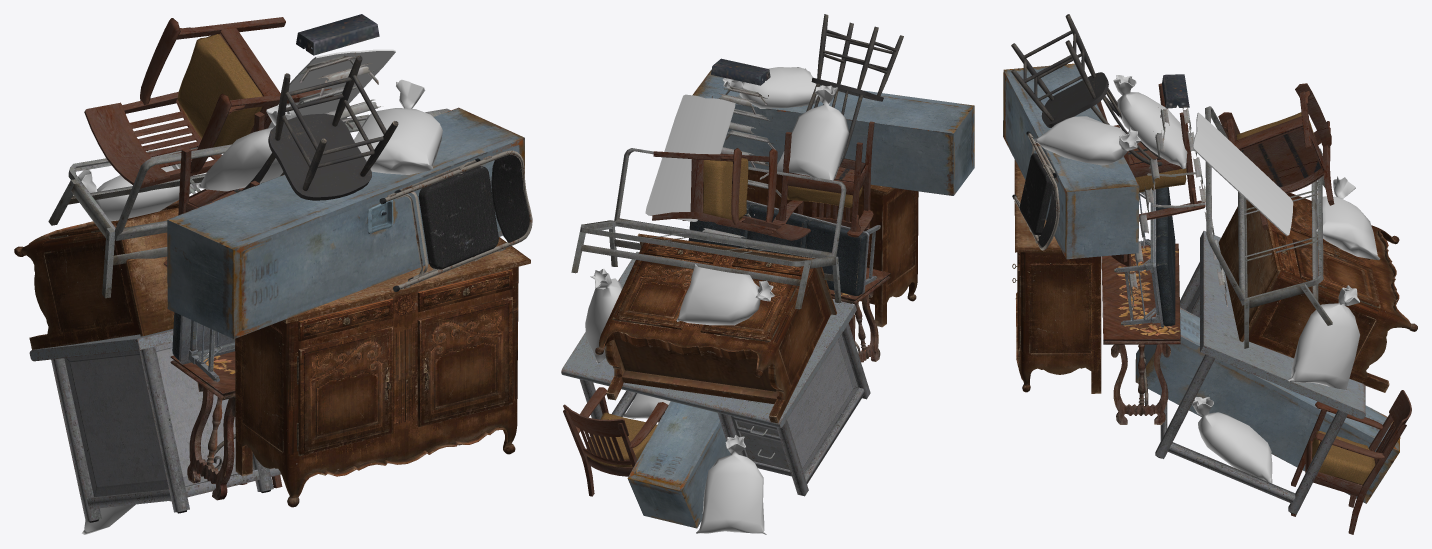
The model's file is Barricade6.fbx.
3 renders of one model, left to right at view 1: azimuth 30°, elevation 25°; view 2: azimuth 150°, elevation 25°; view 3: azimuth 270°, elevation 25°, orthographic. The views are drawn at different scales.
Visible parts, largest first — view 1: LOD_1_Group_0_Sub_2__sm30_109_Lowchest01A_A_Mat, LOD_1_Group_0_Sub_1__sm30_051_Locker01A_A_Mat1, LOD_1_Group_0_Sub_6__sm30_093_STARSPClDesk01A_A_Mat1, LOD_1_Group_0_Sub_5__sm30_118_WoodChair03A_A_Mat, LOD_1_Group_0_Sub_10__sm30_153_FoldingChair01A_A_Mat, LOD_1_Group_0_Sub_12__sm26_046_Sandbag04A_A_Mat__Env_default, LOD_1_Group_0_Sub_3__sm30_115_cafeChair01A_A_Mat, LOD_1_Group_0_Sub_7__sm30_002_OfficeSofa01A_A_Mat1, LOD_1_Group_0_Sub_11__sm30_205_LibraryDesk01A_A_Mat, LOD_1_Group_0_Sub_8__sm30_163_Foldingladder03A_A_Mat, LOD_1_Group_0_Sub_4__sm26_022_WoodBoard01A_A_Mat, LOD_1_Group_0_Sub_9__sm30_126_BenchA01A_A_Mat1; view 2: LOD_1_Group_0_Sub_2__sm30_109_Lowchest01A_A_Mat, LOD_1_Group_0_Sub_1__sm30_051_Locker01A_A_Mat1, LOD_1_Group_0_Sub_12__sm26_046_Sandbag04A_A_Mat__Env_default, LOD_1_Group_0_Sub_5__sm30_118_WoodChair03A_A_Mat, LOD_1_Group_0_Sub_6__sm30_093_STARSPClDesk01A_A_Mat1, LOD_1_Group_0_Sub_7__sm30_002_OfficeSofa01A_A_Mat1, LOD_1_Group_0_Sub_4__sm26_022_WoodBoard01A_A_Mat, LOD_1_Group_0_Sub_9__sm30_126_BenchA01A_A_Mat1, LOD_1_Group_0_Sub_3__sm30_115_cafeChair01A_A_Mat, LOD_1_Group_0_Sub_8__sm30_163_Foldingladder03A_A_Mat, LOD_1_Group_0_Sub_11__sm30_205_LibraryDesk01A_A_Mat; view 3: LOD_1_Group_0_Sub_2__sm30_109_Lowchest01A_A_Mat, LOD_1_Group_0_Sub_1__sm30_051_Locker01A_A_Mat1, LOD_1_Group_0_Sub_12__sm26_046_Sandbag04A_A_Mat__Env_default, LOD_1_Group_0_Sub_5__sm30_118_WoodChair03A_A_Mat, LOD_1_Group_0_Sub_6__sm30_093_STARSPClDesk01A_A_Mat1, LOD_1_Group_0_Sub_11__sm30_205_LibraryDesk01A_A_Mat, LOD_1_Group_0_Sub_7__sm30_002_OfficeSofa01A_A_Mat1, LOD_1_Group_0_Sub_3__sm30_115_cafeChair01A_A_Mat, LOD_1_Group_0_Sub_4__sm26_022_WoodBoard01A_A_Mat, LOD_1_Group_0_Sub_9__sm30_126_BenchA01A_A_Mat1, LOD_1_Group_0_Sub_8__sm30_163_Foldingladder03A_A_Mat, LOD_1_Group_0_Sub_10__sm30_153_FoldingChair01A_A_Mat.
Boxes of the visible parts, x1,y1,x2,y2 form: LOD_1_Group_0_Sub_2__sm30_109_Lowchest01A_A_Mat: (14,200,530,507); LOD_1_Group_0_Sub_1__sm30_051_Locker01A_A_Mat1: (167,107,524,338); LOD_1_Group_0_Sub_6__sm30_093_STARSPClDesk01A_A_Mat1: (29,329,461,522); LOD_1_Group_0_Sub_5__sm30_118_WoodChair03A_A_Mat: (84,17,333,488); LOD_1_Group_0_Sub_10__sm30_153_FoldingChair01A_A_Mat: (379,150,532,291); LOD_1_Group_0_Sub_12__sm26_046_Sandbag04A_A_Mat__Env_default: (73,79,442,534); LOD_1_Group_0_Sub_3__sm30_115_cafeChair01A_A_Mat: (242,55,398,200); LOD_1_Group_0_Sub_7__sm30_002_OfficeSofa01A_A_Mat1: (48,108,450,298); LOD_1_Group_0_Sub_11__sm30_205_LibraryDesk01A_A_Mat: (170,351,235,500); LOD_1_Group_0_Sub_8__sm30_163_Foldingladder03A_A_Mat: (296,14,380,129); LOD_1_Group_0_Sub_4__sm26_022_WoodBoard01A_A_Mat: (268,49,395,128); LOD_1_Group_0_Sub_9__sm30_126_BenchA01A_A_Mat1: (172,312,234,381); LOD_1_Group_0_Sub_2__sm30_109_Lowchest01A_A_Mat: (595,169,918,423); LOD_1_Group_0_Sub_1__sm30_051_Locker01A_A_Mat1: (627,70,974,528); LOD_1_Group_0_Sub_12__sm26_046_Sandbag04A_A_Mat__Env_default: (585,67,849,534); LOD_1_Group_0_Sub_5__sm30_118_WoodChair03A_A_Mat: (563,121,874,496); LOD_1_Group_0_Sub_6__sm30_093_STARSPClDesk01A_A_Mat1: (561,251,870,496); LOD_1_Group_0_Sub_7__sm30_002_OfficeSofa01A_A_Mat1: (571,148,846,309); LOD_1_Group_0_Sub_4__sm26_022_WoodBoard01A_A_Mat: (645,94,735,221); LOD_1_Group_0_Sub_9__sm30_126_BenchA01A_A_Mat1: (688,200,880,295); LOD_1_Group_0_Sub_3__sm30_115_cafeChair01A_A_Mat: (806,14,903,164); LOD_1_Group_0_Sub_8__sm30_163_Foldingladder03A_A_Mat: (702,58,781,237); LOD_1_Group_0_Sub_11__sm30_205_LibraryDesk01A_A_Mat: (829,267,890,362); LOD_1_Group_0_Sub_2__sm30_109_Lowchest01A_A_Mat: (1012,160,1417,393); LOD_1_Group_0_Sub_1__sm30_051_Locker01A_A_Mat1: (1003,63,1400,503); LOD_1_Group_0_Sub_12__sm26_046_Sandbag04A_A_Mat__Env_default: (1034,75,1380,483); LOD_1_Group_0_Sub_5__sm30_118_WoodChair03A_A_Mat: (1097,83,1411,534); LOD_1_Group_0_Sub_6__sm30_093_STARSPClDesk01A_A_Mat1: (1155,231,1365,514); LOD_1_Group_0_Sub_11__sm30_205_LibraryDesk01A_A_Mat: (1101,243,1180,424); LOD_1_Group_0_Sub_7__sm30_002_OfficeSofa01A_A_Mat1: (1205,106,1332,348); LOD_1_Group_0_Sub_3__sm30_115_cafeChair01A_A_Mat: (1011,14,1162,166); LOD_1_Group_0_Sub_4__sm26_022_WoodBoard01A_A_Mat: (1192,112,1293,235); LOD_1_Group_0_Sub_9__sm30_126_BenchA01A_A_Mat1: (1114,187,1175,327); LOD_1_Group_0_Sub_8__sm30_163_Foldingladder03A_A_Mat: (1127,74,1227,309); LOD_1_Group_0_Sub_10__sm30_153_FoldingChair01A_A_Mat: (1012,131,1059,250).
Bounding box in the file's own units: 2.24 × 3.29 × 2.8.
